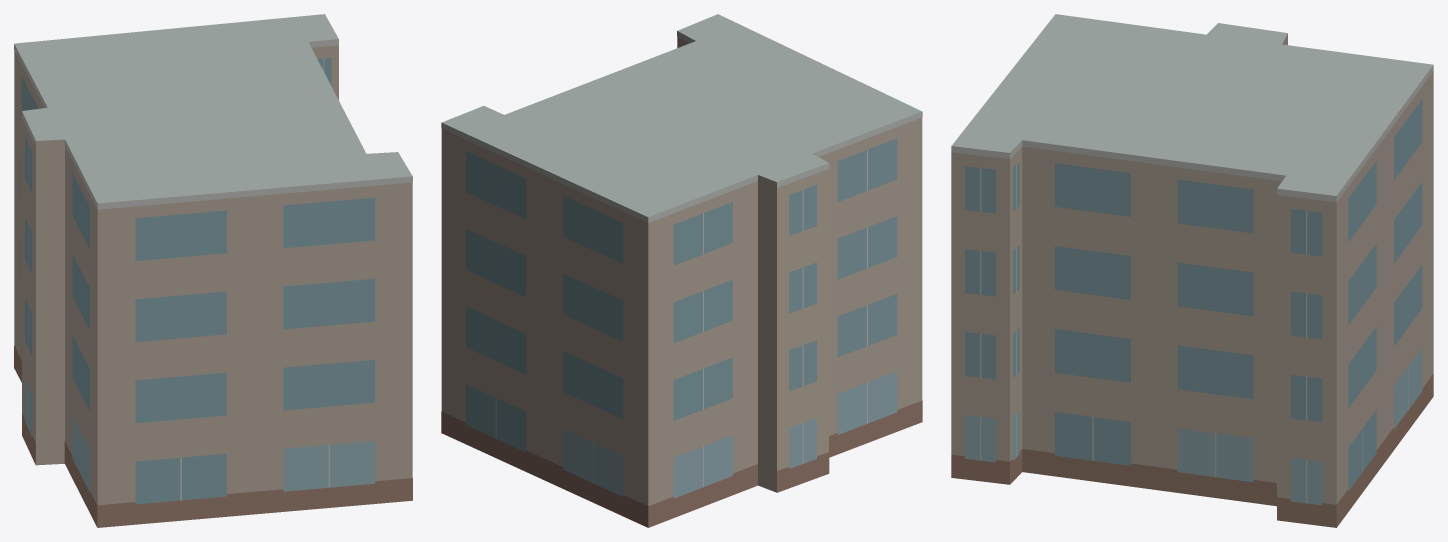
File: survey-upis-32632316.glb
The picture shows the model from 3 angles, left to right: view 1: azimuth 30°, elevation 25°; view 2: azimuth 150°, elevation 25°; view 3: azimuth 270°, elevation 25°; orthographic projection. The views are drawn at different scales.
Visible parts, largest first — view 1: survey-upis-32632316.tmp; view 2: survey-upis-32632316.tmp; view 3: survey-upis-32632316.tmp.
Part boxes in pixels (x1=…): survey-upis-32632316.tmp: x1=14, y1=14, x2=412, y2=527; survey-upis-32632316.tmp: x1=441, y1=14, x2=922, y2=527; survey-upis-32632316.tmp: x1=951, y1=14, x2=1433, y2=527.
Bounding box in the file's own units: 15.25 × 12.95 × 17.07.
